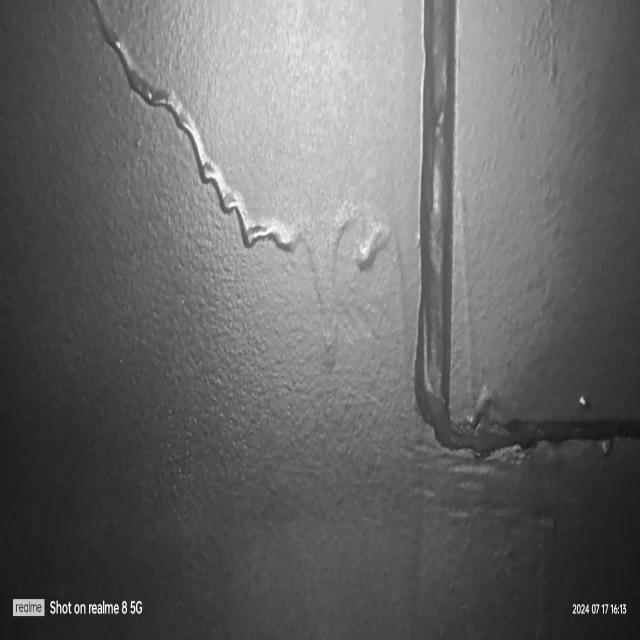paint drips: (86, 0, 412, 396), (574, 385, 594, 419), (599, 434, 617, 462)
